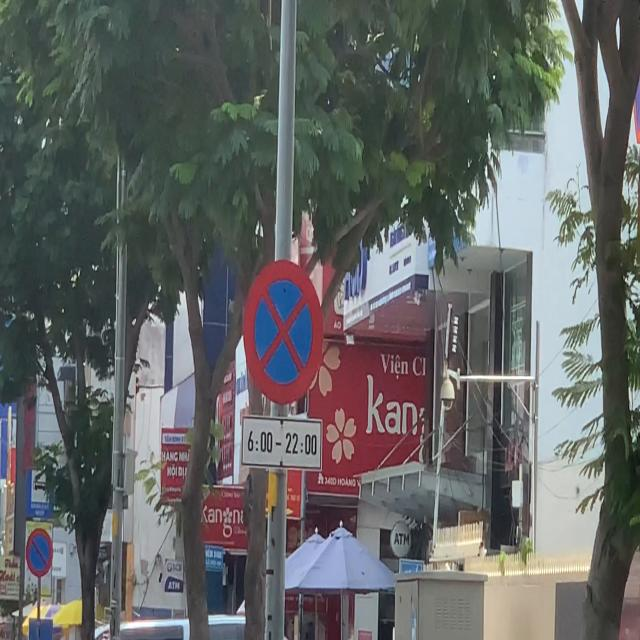Ben xe buyt: (28, 464, 50, 520)
Cam do: (26, 526, 54, 578)
Cam dung va do: (241, 256, 325, 407)
